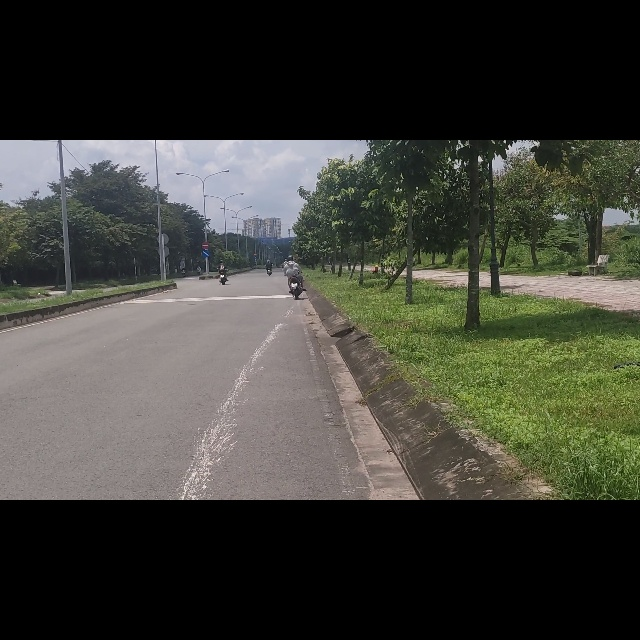bien_cam: (201, 181, 210, 194), (202, 196, 210, 209)
